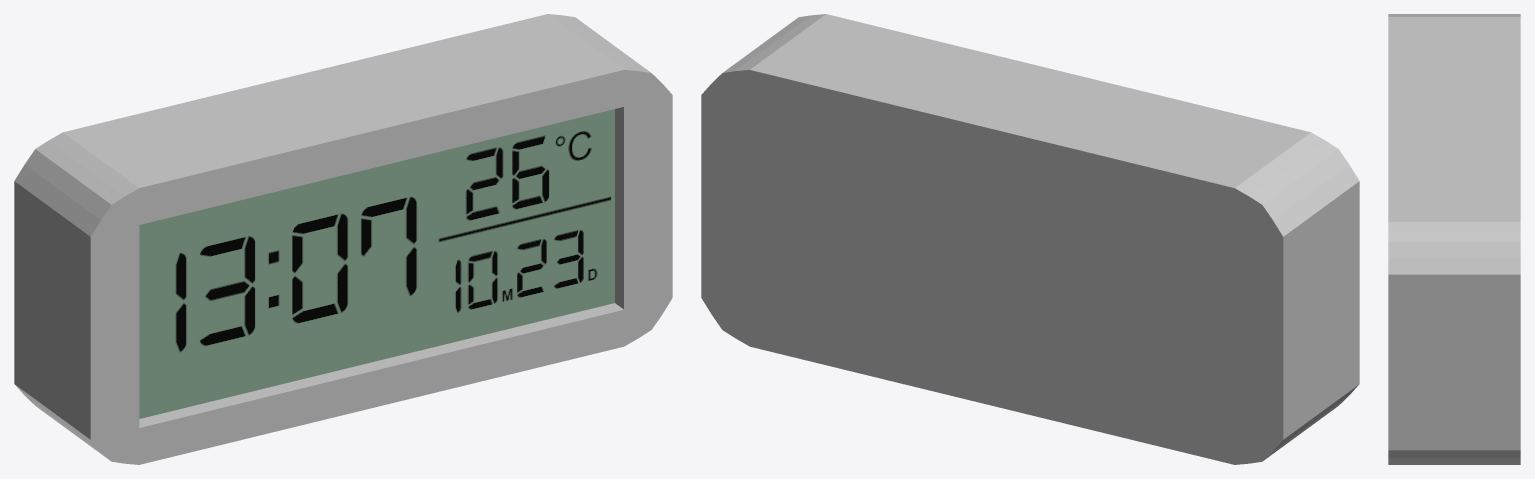
File: DigitalClock_LOD0.fbx
3 views of the same model, side by side, from view 1: azimuth 30°, elevation 25°; view 2: azimuth 150°, elevation 25°; view 3: azimuth 270°, elevation 25° (orthographic). The views are drawn at different scales.
Parts seen in each view (by area): view 1: Cube; view 2: Cube; view 3: Cube.
Boxes of the visible parts, <box> form: Cube: <box>14,14,672,464</box>; Cube: <box>701,14,1359,464</box>; Cube: <box>1388,14,1520,464</box>.
Size of the model in its own units: 44 by 20 by 10.
